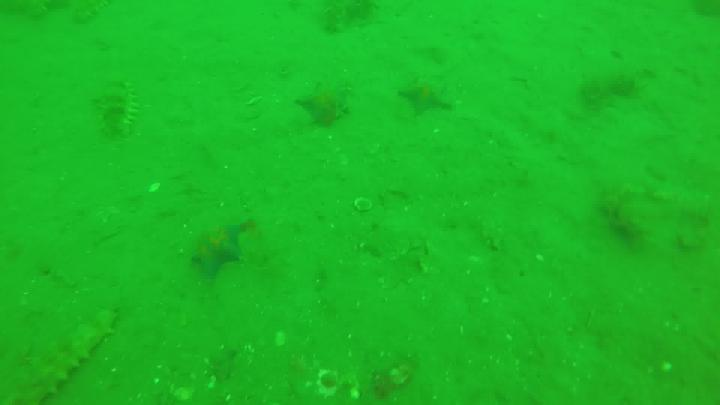holothurian: (17, 309, 120, 405), (96, 82, 142, 137), (73, 1, 109, 23)
scallop: (317, 371, 344, 396), (391, 364, 413, 388), (355, 199, 373, 214)
starfish: (192, 221, 248, 278), (298, 80, 349, 126), (399, 80, 456, 120)
